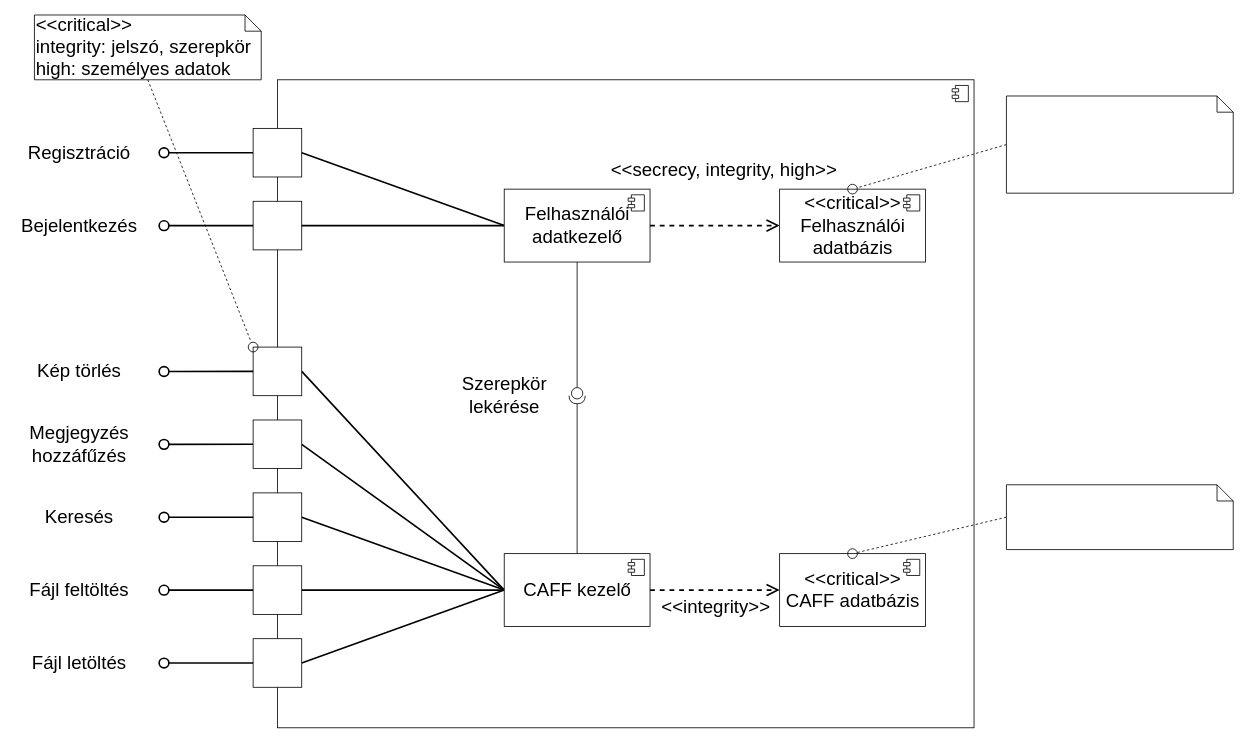
Some shapes in this 1247 by 742 pixel diagram are drawn without their labels. The centre of each missing label's shape, as x and y in pixels:
"<<critical>> integrity: CAFF fájlok, megjegyzések" goes at point 1119,517.
"<<critical>> secrecy: jelszó integrity: szerepkör, jelszó high: személyes adatok" goes at point 1119,144.
